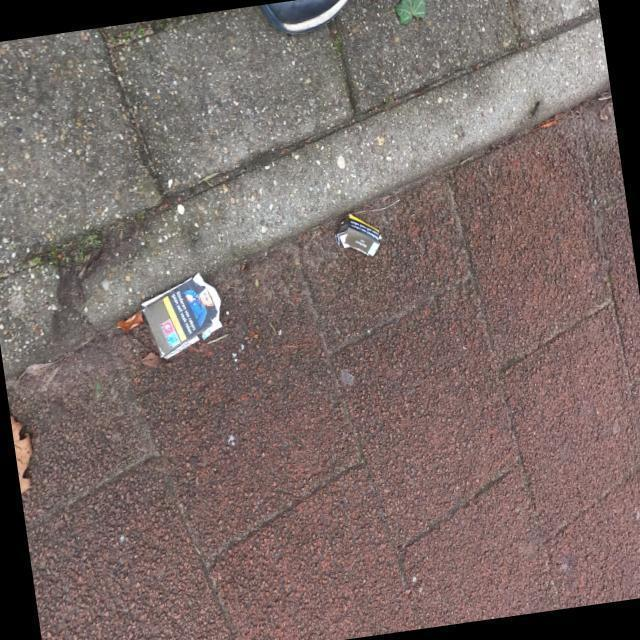Paper: (136, 268, 225, 362), (333, 211, 384, 259)
